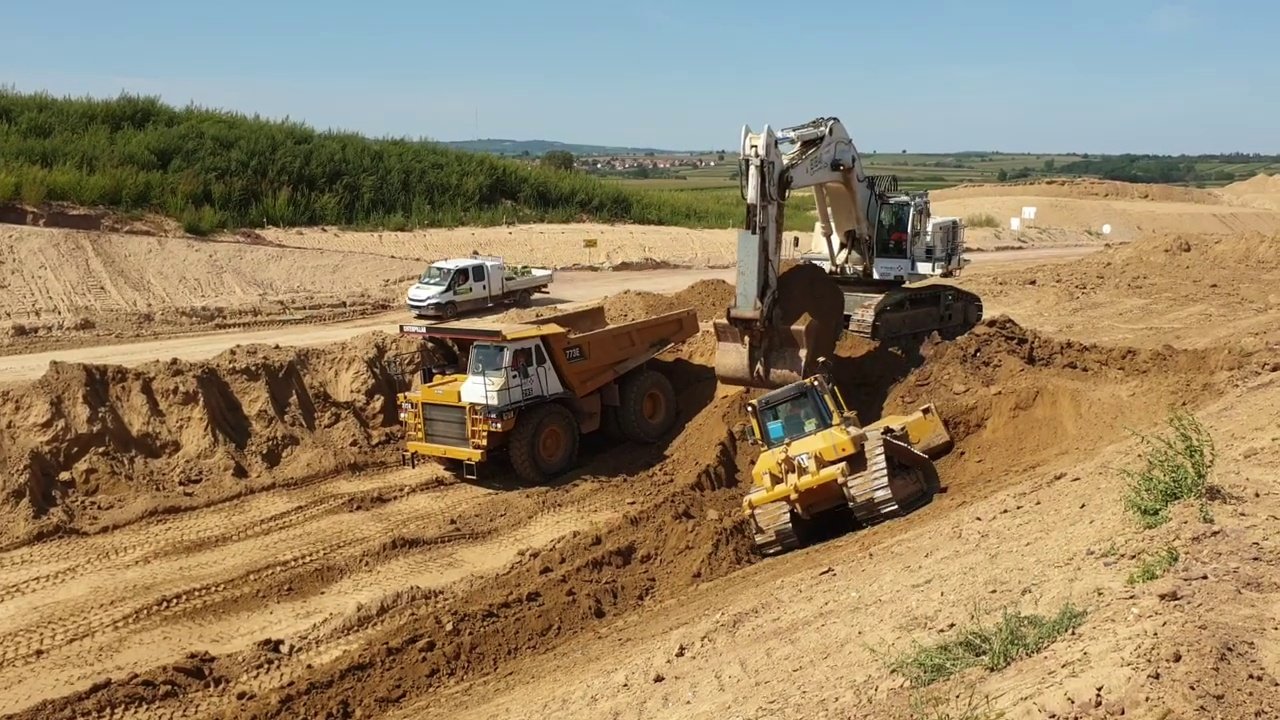bulldozer: (737, 367, 959, 558)
excavator: (709, 112, 990, 392)
truck: (398, 303, 701, 490), (404, 252, 557, 320)
